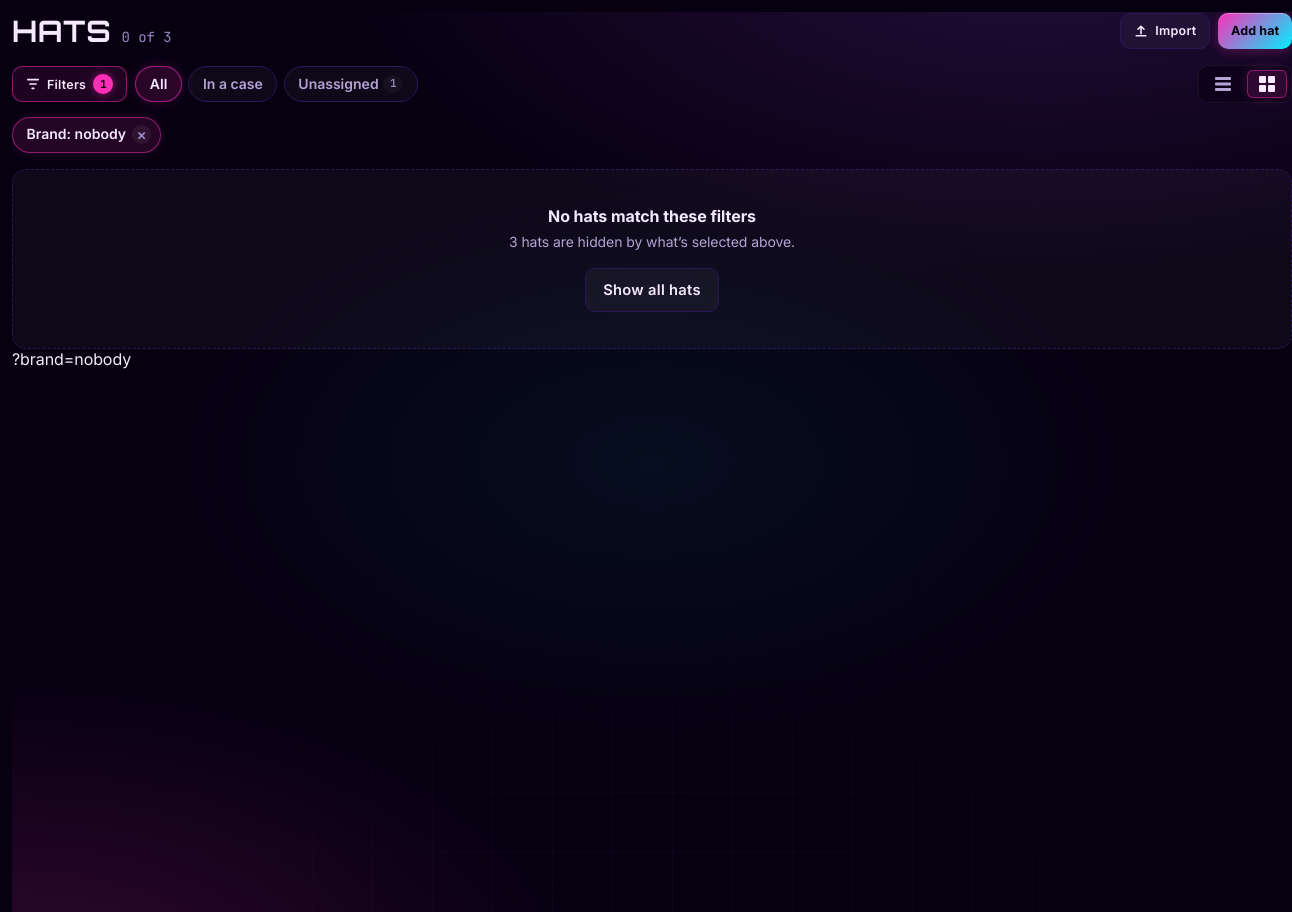
Test: HatsPage › shows a way out when filters hide everything
Expected: the text "No hats match these filters" is shown, x1=548 y1=206 x2=756 y2=226
What coordinates should you click on to do the following:
click the button "Show all hats"
I would click on:
 (652, 290)
Its box is x1=584 y1=268 x2=719 y2=312.
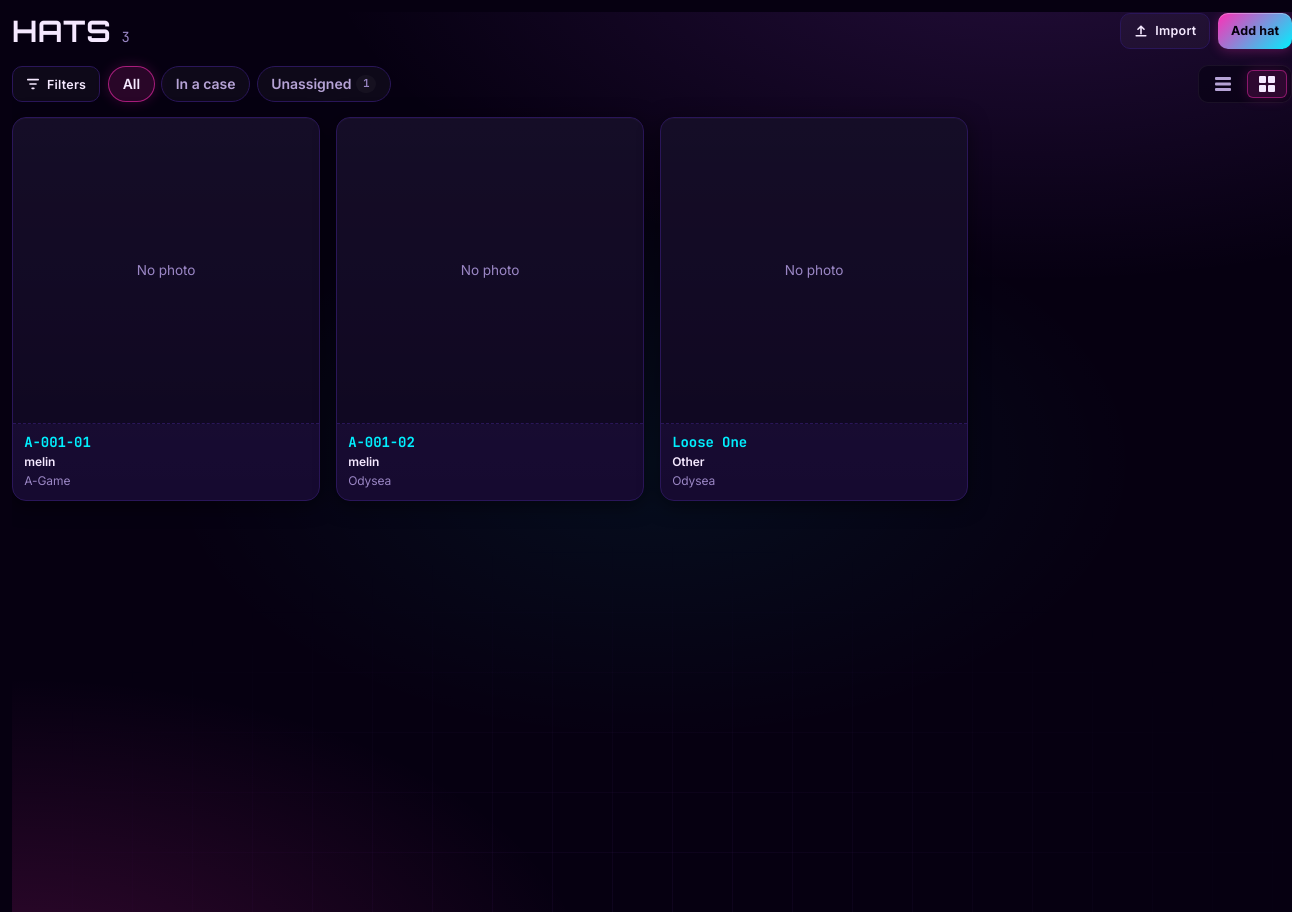
Expected: the text "A-001-01" is shown, x1=24 y1=433 x2=91 y2=451
